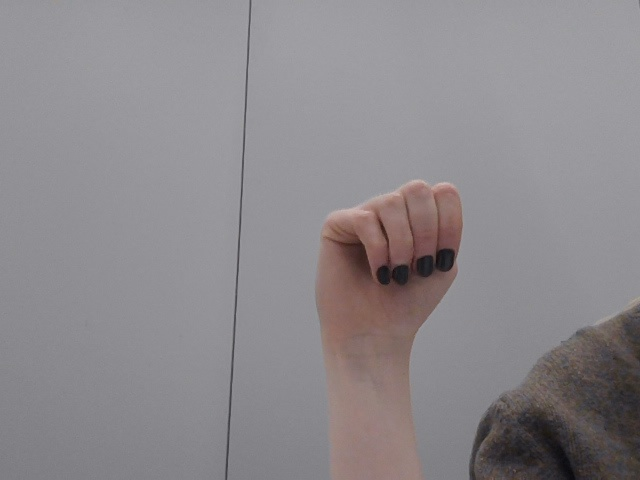down: (296, 169, 473, 403)
